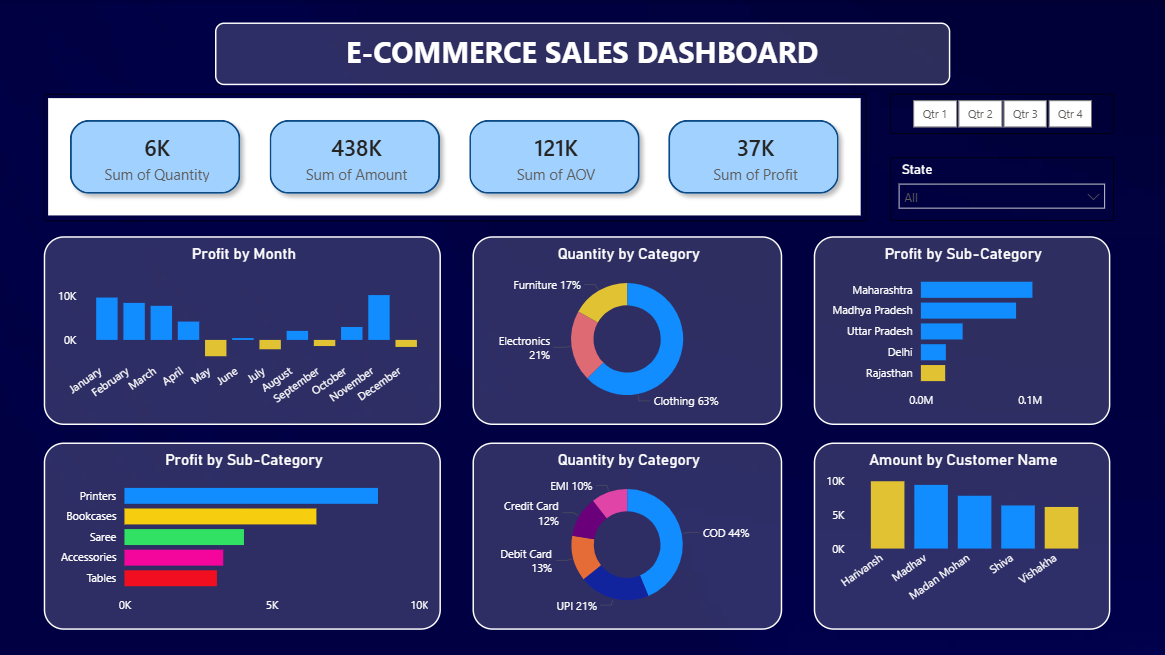

Layout of this report page (visuals, bound fields, positions):
{"tool":"powerbi","page":{"name":"Page 1","canvas":[1280,720],"ordinal":0},"visuals":[{"type":"textbox","box":[236,24.7,806.9,68.6],"z":0},{"type":"columnChart","title":"Profit by Month","fields":{"Category":["Orders.Order Date.Variation.Date Hierarchy.Month"],"Y":["Sum(Details.Profit)"]},"box":[48,259.3,436.4,207.2],"z":1000},{"type":"barChart","title":"Profit by Sub-Category","fields":{"Category":["Details.Sub-Category"],"Y":["Sum(Details.Profit)"]},"box":[48,485.8,436.4,205.8],"z":2000},{"type":"donutChart","title":"Quantity by Category","fields":{"Category":["Details.Category"],"Y":["Sum(Details.Quantity)"]},"box":[518.7,259.3,340.3,207.2],"z":3000},{"type":"donutChart","title":"Quantity by Category","fields":{"Category":["Details.PaymentMode"],"Y":["Sum(Details.Quantity)"]},"box":[518.7,485.8,340.3,205.8],"z":4000},{"type":"cardVisual","fields":{"Data":["Sum(Details.Quantity)","Sum(Details.Amount)","Sum(Details.AOV)","Sum(Details.Profit)"]},"box":[48,102.9,902.9,140],"z":5000},{"type":"barChart","title":"Profit by Sub-Category","fields":{"Category":["Orders.State"],"Y":["Sum(Details.Amount)"]},"box":[893.3,259.3,325.2,207.2],"z":6000},{"type":"columnChart","title":"Amount by Customer Name","fields":{"Category":["Orders.CustomerName"],"Y":["Sum(Details.Amount)"]},"box":[893.3,485.8,325.2,205.8],"z":7000},{"type":"slicer","fields":{"Values":["Orders.Order Date.Variation.Date Hierarchy.Quarter"]},"box":[977,102.9,245.6,43.9],"z":8000},{"type":"slicer","fields":{"Values":["Orders.State"]},"box":[977,172.9,245.6,70],"z":9000}]}

Visuals, with their boxes in screenshot pixels (x1, y1, x2, y2), scaled from the page's 1280x720 canvas onto the 1165x655 screenshot:
textbox: {"left": 215, "top": 22, "right": 949, "bottom": 85}
"Profit by Month" columnChart: {"left": 44, "top": 236, "right": 441, "bottom": 424}
"Profit by Sub-Category" barChart: {"left": 44, "top": 442, "right": 441, "bottom": 629}
"Quantity by Category" donutChart: {"left": 472, "top": 236, "right": 782, "bottom": 424}
"Quantity by Category" donutChart: {"left": 472, "top": 442, "right": 782, "bottom": 629}
cardVisual - Sum(Details.Quantity) x Sum(Details.Amount): {"left": 44, "top": 94, "right": 865, "bottom": 221}
"Profit by Sub-Category" barChart: {"left": 813, "top": 236, "right": 1109, "bottom": 424}
"Amount by Customer Name" columnChart: {"left": 813, "top": 442, "right": 1109, "bottom": 629}
slicer - Orders.Order Date.Variation.Date Hierarchy.Quarter: {"left": 889, "top": 94, "right": 1113, "bottom": 134}
slicer - Orders.State: {"left": 889, "top": 157, "right": 1113, "bottom": 221}
